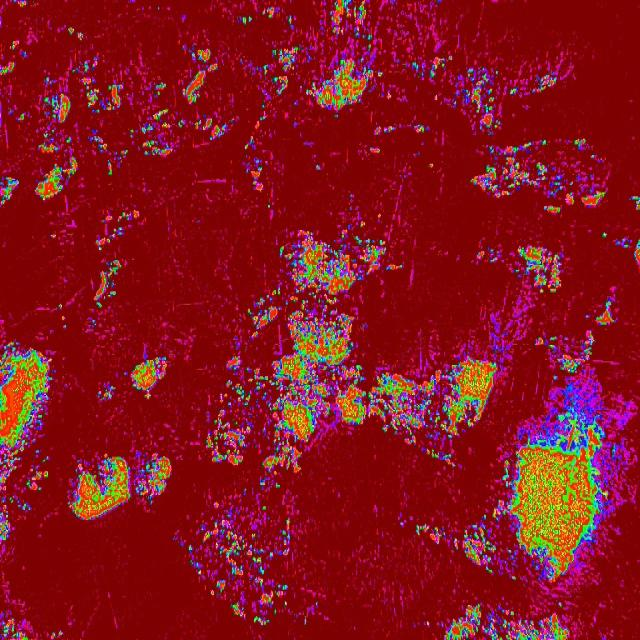fire: (228, 217, 416, 489), (499, 380, 622, 584), (177, 490, 294, 630), (469, 133, 610, 219), (0, 336, 54, 546), (417, 354, 499, 468), (69, 450, 173, 522), (307, 54, 384, 120), (440, 601, 570, 640), (178, 44, 226, 148), (450, 66, 507, 132), (534, 328, 598, 378), (511, 242, 564, 294), (464, 510, 498, 580), (89, 127, 130, 178), (39, 94, 73, 155), (128, 351, 170, 400), (138, 106, 176, 160), (262, 42, 300, 94), (35, 159, 79, 202), (204, 396, 230, 466), (331, 0, 375, 41), (414, 522, 464, 558), (92, 209, 134, 251), (92, 260, 125, 308), (84, 76, 122, 115), (0, 36, 29, 85), (242, 137, 266, 193), (410, 54, 450, 82), (0, 611, 38, 640), (594, 295, 618, 329), (0, 174, 21, 212), (296, 597, 322, 627), (616, 236, 640, 266), (532, 71, 558, 97), (476, 244, 504, 267), (72, 55, 102, 75), (1, 105, 24, 130), (52, 301, 71, 331), (96, 384, 115, 406), (346, 194, 361, 218), (11, 0, 44, 10), (373, 124, 398, 137), (262, 4, 279, 22), (258, 98, 270, 121), (67, 26, 84, 42), (154, 81, 168, 99), (237, 11, 255, 25), (413, 122, 428, 136), (287, 15, 297, 34), (44, 74, 57, 88), (630, 195, 640, 213), (366, 145, 382, 156), (46, 629, 62, 640), (312, 162, 324, 174), (398, 514, 408, 528), (508, 84, 518, 98), (583, 310, 593, 322), (90, 318, 99, 331), (600, 229, 611, 239), (50, 232, 59, 242), (365, 43, 374, 51), (130, 128, 136, 140), (426, 161, 434, 169), (266, 202, 272, 209)
